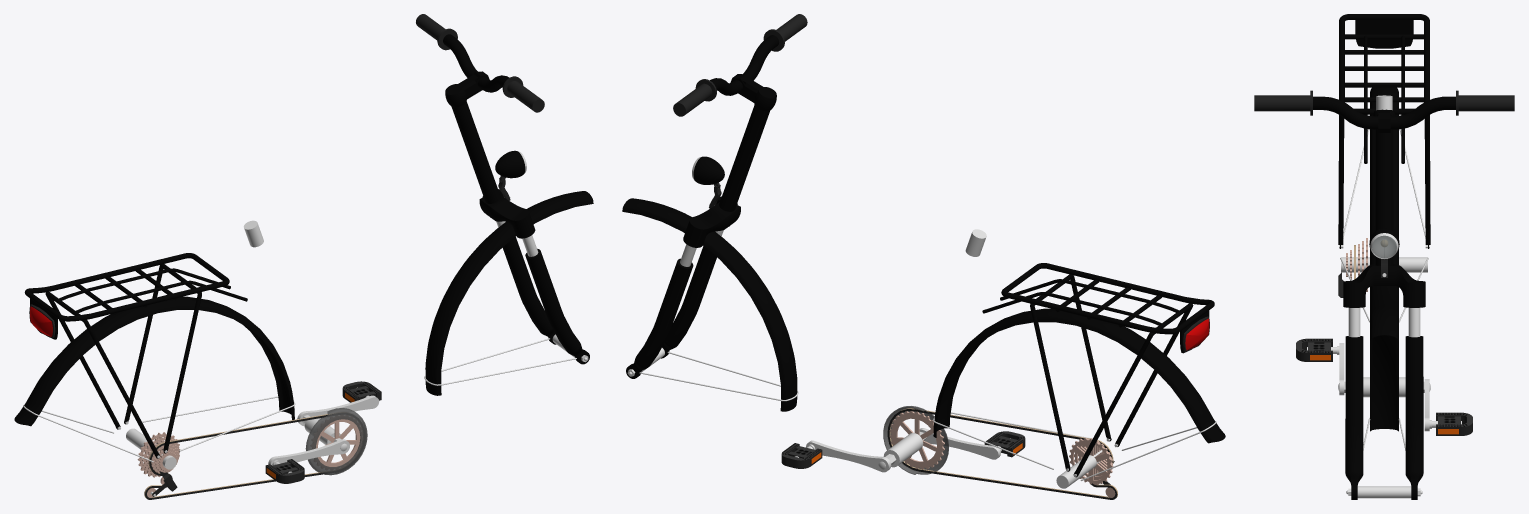
Rendered from init.glb.
3 renders of one model, left to right at view 1: azimuth 30°, elevation 25°; view 2: azimuth 150°, elevation 25°; view 3: azimuth 270°, elevation 25°, orthographic. The views are drawn at different scales.
Visible parts, largest first — view 1: Bike01\Lenkgabel, Bike01\gepaecktraeger, Bike01\SchutzblechBack, Bike01\SchutzblechFront, Bike01\Pedale, Bike01\kettenschutz, Bike01\ketteSimple, Bike01\Kettenantrieb, Bike01\Katzenauge, Bike01\Lampe; view 2: Bike01\Lenkgabel, Bike01\gepaecktraeger, Bike01\SchutzblechBack, Bike01\SchutzblechFront, Bike01\Pedale, Bike01\ketteSimple, Bike01\Kettenantrieb, Bike01\kettenschutz, Bike01\Katzenauge, Bike01\Lampe, Bike01\Ritzel 2; view 3: Bike01\Lenkgabel, Bike01\gepaecktraeger, Bike01\SchutzblechFront, Bike01\Pedale, Bike01\SchutzblechBack, Bike01\Katzenauge, Bike01\Lampe, Bike01\#axisFront, Bike01\#axisBack, Bike01\Glasscheibe, Bike01\SchutzblechHalterBackBack.
Boxes of the visible parts, box(x1,y1,x2,y2) form: Bike01\Lenkgabel: box(416, 14, 589, 364); Bike01\gepaecktraeger: box(24, 253, 247, 458); Bike01\SchutzblechBack: box(14, 296, 294, 426); Bike01\SchutzblechFront: box(425, 191, 593, 395); Bike01\Pedale: box(265, 381, 381, 483); Bike01\kettenschutz: box(305, 408, 367, 475); Bike01\ketteSimple: box(144, 413, 334, 499); Bike01\Kettenantrieb: box(315, 419, 360, 466); Bike01\Katzenauge: box(29, 298, 57, 339); Bike01\Lampe: box(495, 150, 526, 180); Bike01\Lenkgabel: box(626, 14, 807, 378); Bike01\gepaecktraeger: box(982, 263, 1214, 477); Bike01\SchutzblechBack: box(933, 308, 1225, 443); Bike01\SchutzblechFront: box(622, 198, 797, 411); Bike01\Pedale: box(781, 428, 1025, 472); Bike01\ketteSimple: box(887, 408, 1117, 499); Bike01\Kettenantrieb: box(889, 411, 944, 469); Bike01\kettenschutz: box(883, 406, 948, 474); Bike01\Katzenauge: box(1180, 310, 1209, 353); Bike01\Lampe: box(692, 156, 724, 187); Bike01\Ritzel 2: box(1069, 437, 1113, 484); Bike01\Lenkgabel: box(1254, 90, 1514, 499); Bike01\gepaecktraeger: box(1338, 14, 1430, 248); Bike01\SchutzblechFront: box(1370, 307, 1398, 431); Bike01\Pedale: box(1296, 338, 1472, 435); Bike01\SchutzblechBack: box(1370, 87, 1398, 313); Bike01\Katzenauge: box(1355, 20, 1413, 48); Bike01\Lampe: box(1369, 228, 1399, 258); Bike01\#axisFront: box(1357, 486, 1411, 498); Bike01\#axisBack: box(1341, 257, 1427, 272); Bike01\Glasscheibe: box(1372, 235, 1396, 258); Bike01\SchutzblechHalterBackBack: box(1343, 129, 1425, 238).
Size of the model in its own units: 1.47 by 0.9189 by 0.52.
Materials: 15 (1 with a texture image).
